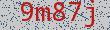7: (67, 1, 82, 26)
8: (51, 1, 69, 26)
9: (16, 1, 34, 27)
j: (83, 1, 100, 28)
m: (34, 2, 52, 28)
